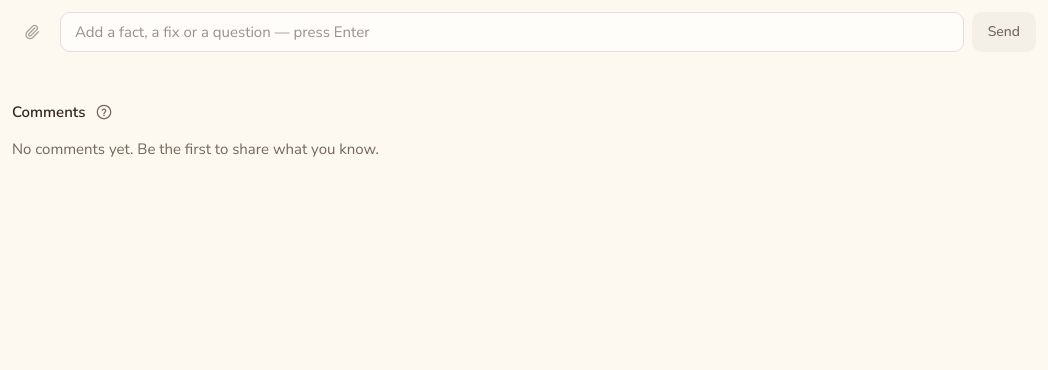
Scenario: CommunitySection — How comments work › renders a plugin note instead of the default
This screenshot has width=1048, height=370.
What coordinates should you click on to do the following:
click the button named "How comments work"
I would click on:
 (104, 112)
Its box is [92, 100, 116, 124].
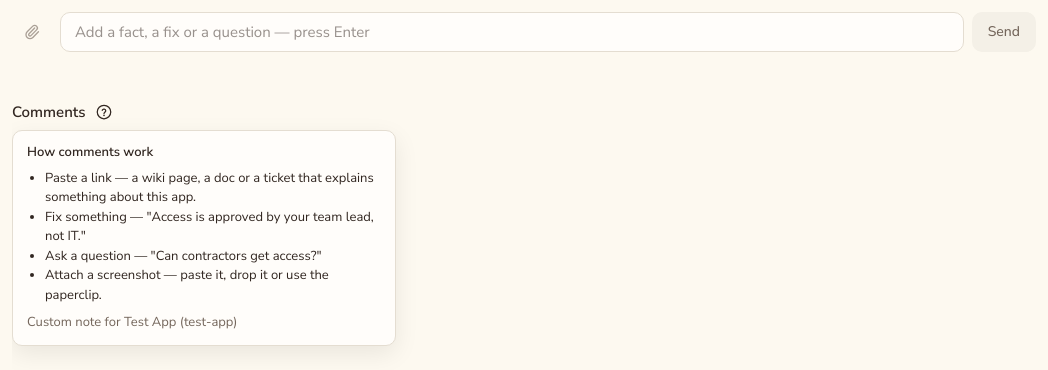
expect the text "Custom note for Test App (test-app)" is shown: met, box [27, 313, 238, 331]
